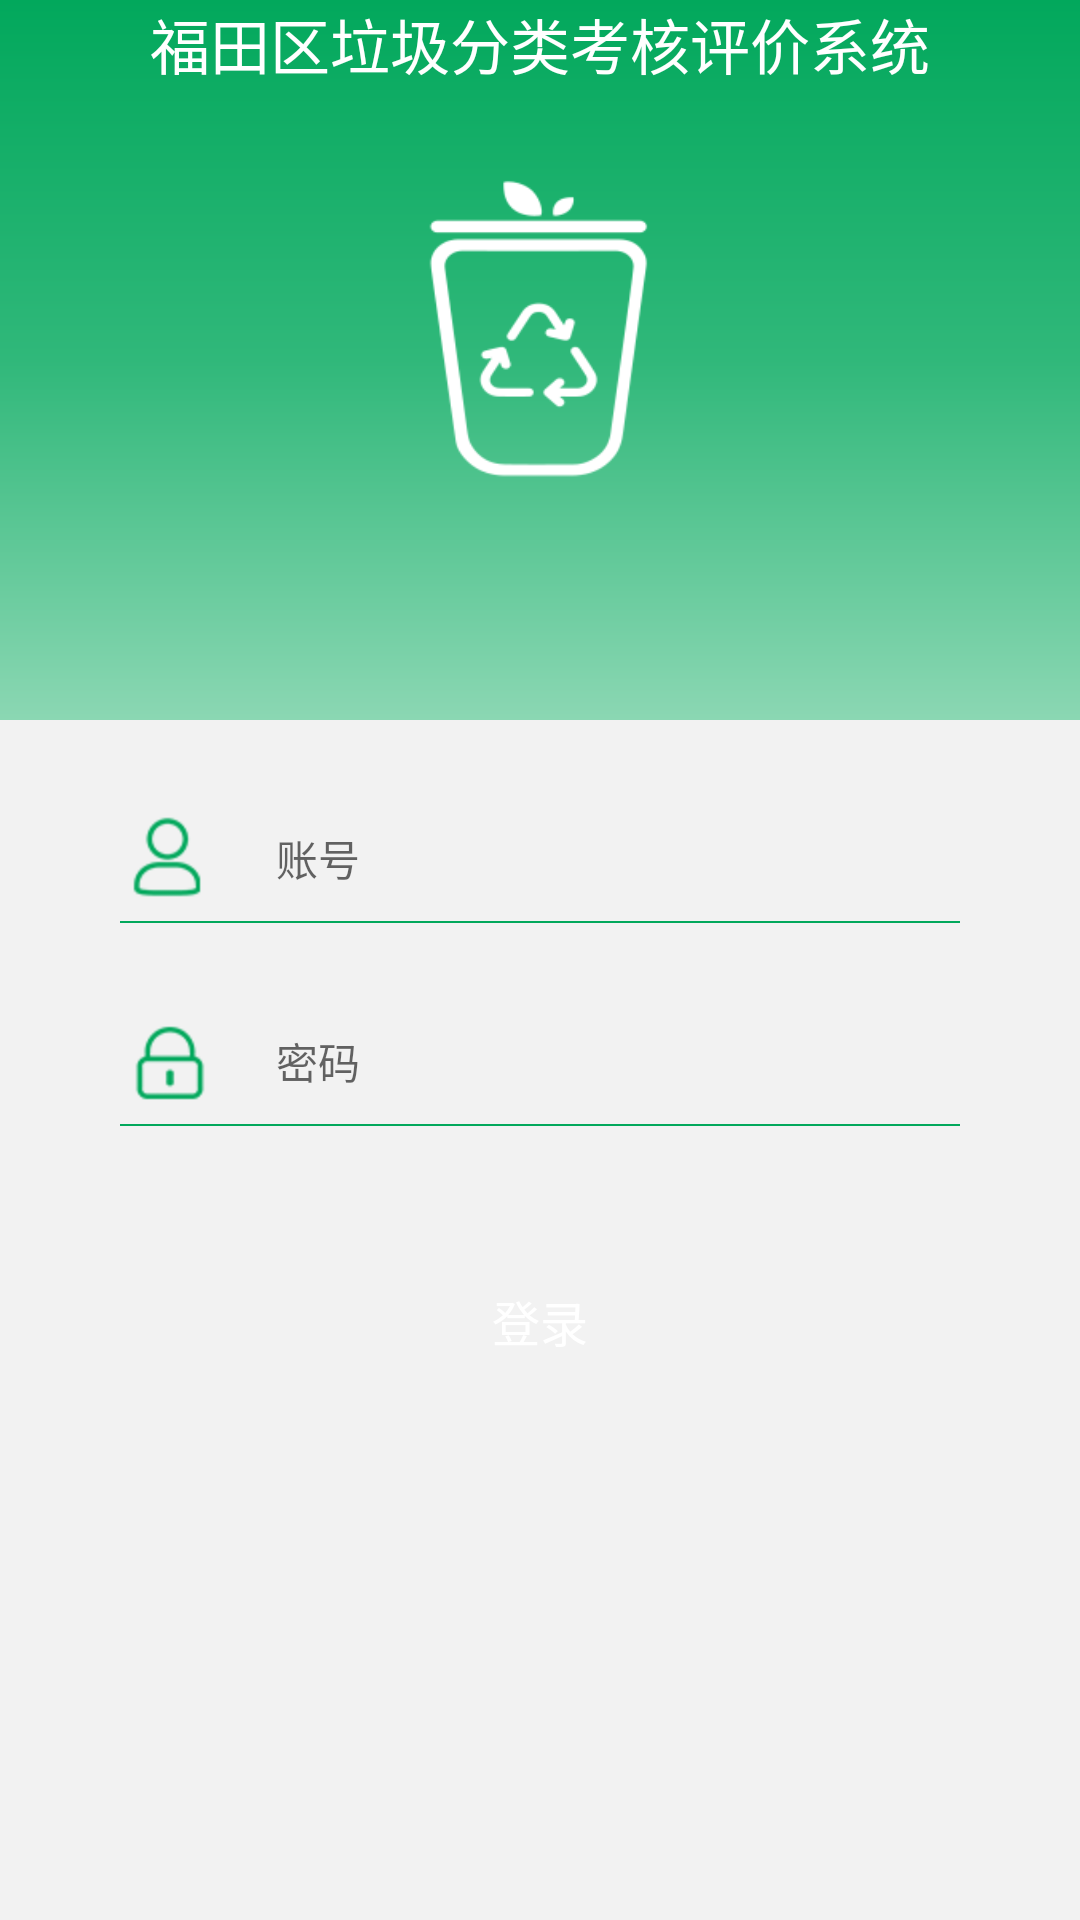

Where to tap for icons on this 1080x1920 app screen, as [x,y]:
account: [167,857]
password: [170,1063]
trash: [540,328]
